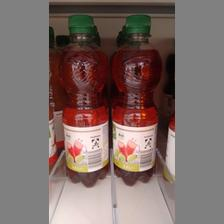Soda: (55, 14, 109, 187), (110, 14, 162, 187)
